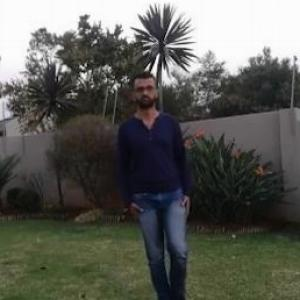follow: (128, 86, 193, 299)
